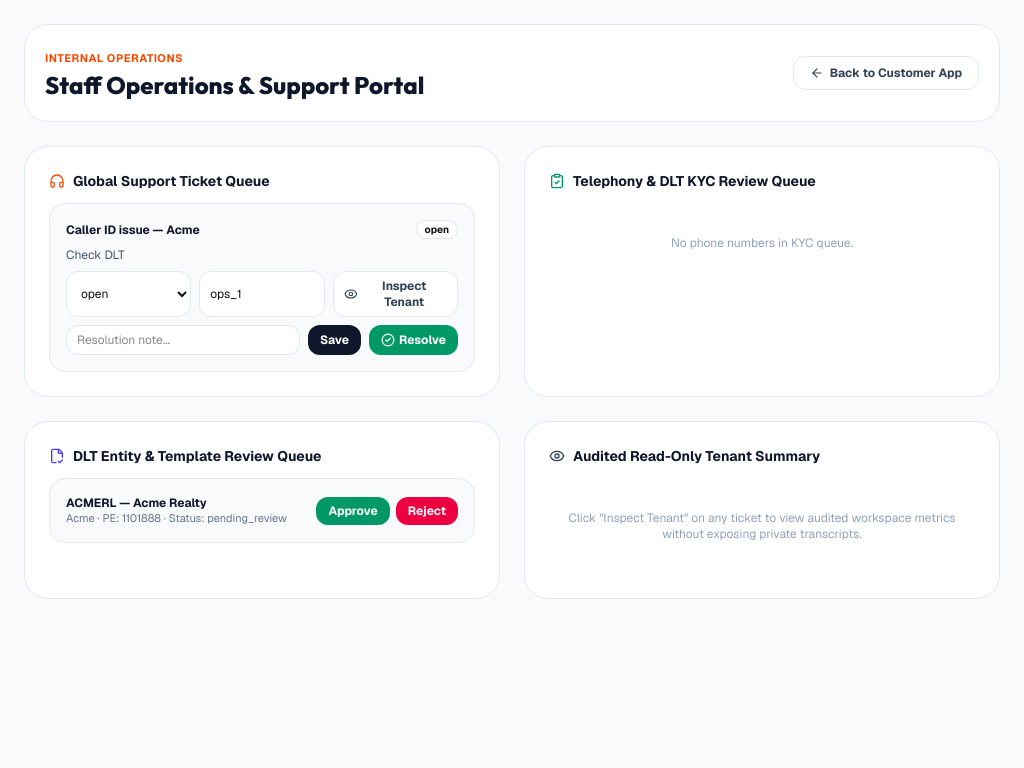
Scenario: Sprint E DLT, NCPR, Staff Ops & Preflight (RED -> GREEN) › renders Staff DLT queue and Audited Tenant Summary inspector in StaffPortal
Expected: the text "DLT Entity & Template Review Queue" is shown, [49, 447, 322, 465]
Expected: the text "ACMERL — Acme Realty" is shown, [66, 495, 207, 511]
Click the button "Inspect Tenant" at x=395, y=294, box [333, 271, 458, 317]
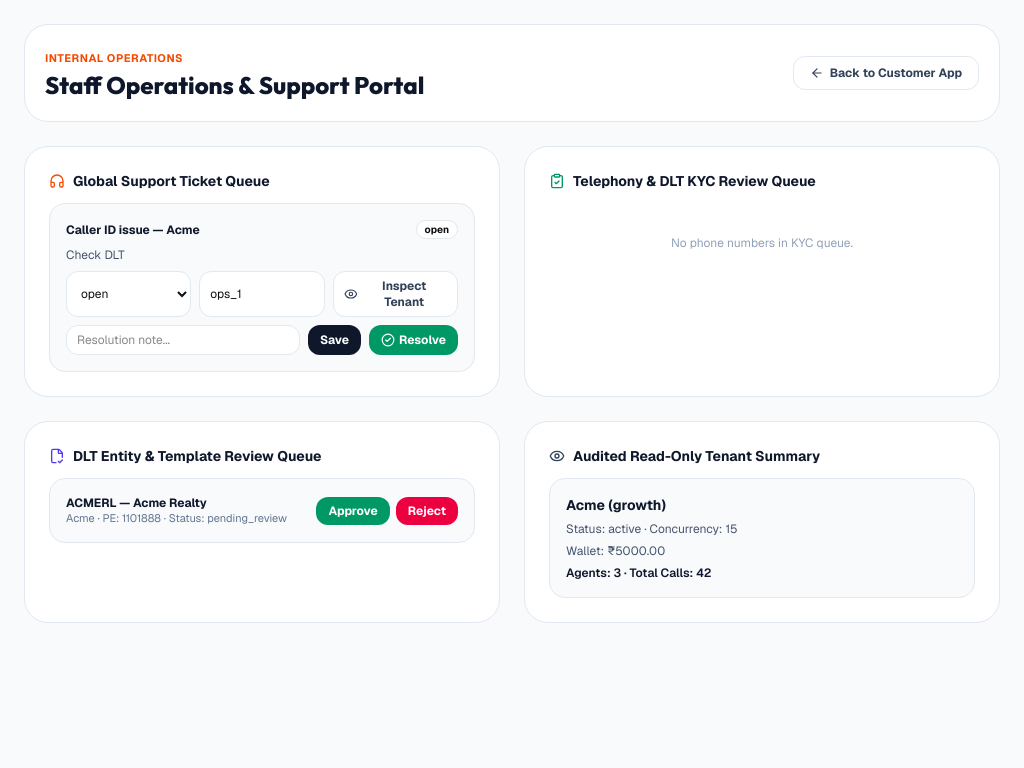
Expected: the text "Audited Read-Only Tenant Summary" is shown, [549, 447, 820, 465]
Now the text "Agents: 3 · Total Calls: 42" is shown, box [566, 565, 712, 581]
